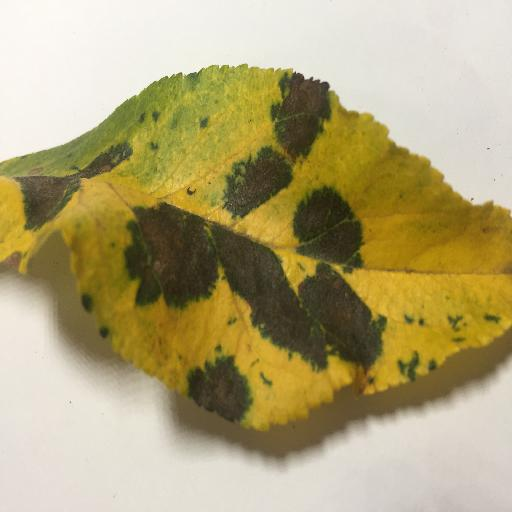Brown_Spot: (211, 230, 327, 362), (129, 221, 207, 304), (280, 193, 370, 255), (303, 284, 374, 351), (187, 362, 247, 420), (287, 82, 331, 153), (227, 161, 287, 210), (16, 174, 64, 231), (67, 145, 118, 186)
